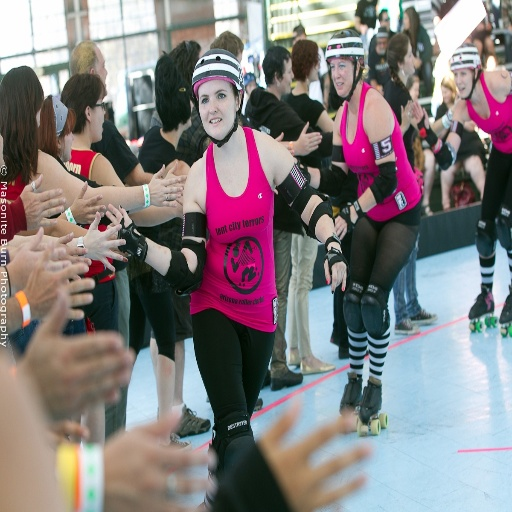hand: (6, 172, 128, 320), (22, 293, 129, 436), (254, 398, 373, 511), (103, 411, 216, 511), (147, 161, 183, 208), (163, 159, 186, 206), (294, 120, 322, 156), (324, 259, 348, 297), (273, 130, 294, 156), (400, 97, 413, 130), (334, 214, 346, 243), (410, 99, 423, 120)
